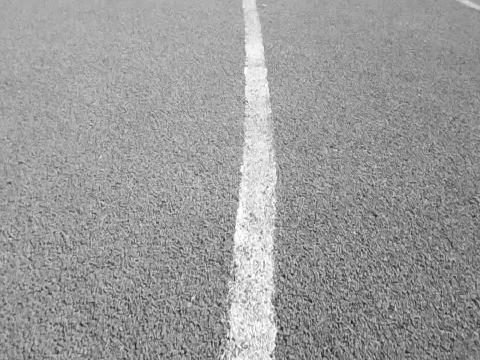Lines: (219, 0, 278, 360)
